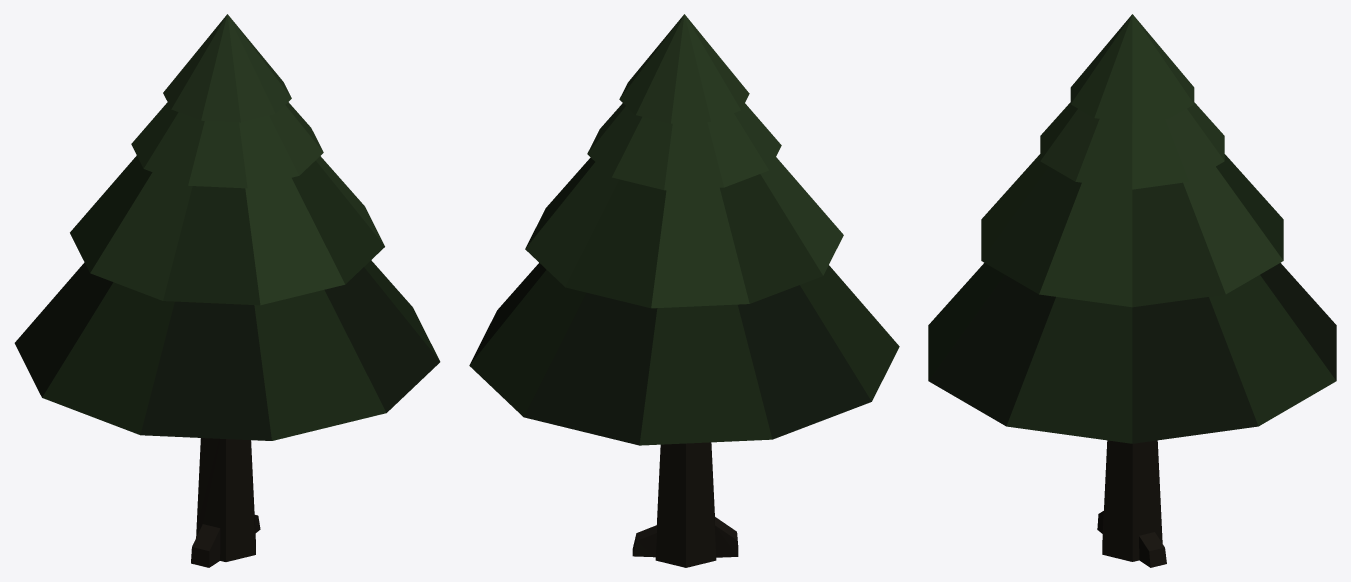
File: Tree.fbx
The picture shows the model from 3 angles, left to right: view 1: azimuth 30°, elevation 25°; view 2: azimuth 150°, elevation 25°; view 3: azimuth 270°, elevation 25°; orthographic projection.
Visible parts, largest first — view 1: Leaves01, Leaves02, Leaves03, Leaves04, TreeTrunk; view 2: Leaves01, Leaves02, Leaves03, Leaves04, TreeTrunk; view 3: Leaves01, Leaves02, Leaves03, Leaves04, TreeTrunk.
Part boxes in pixels (box(x1,y1,x2,y2)): Leaves01: box(14, 260, 440, 440); Leaves02: box(70, 155, 384, 305); Leaves03: box(131, 102, 323, 188); Leaves04: box(163, 14, 291, 122); TreeTrunk: box(191, 438, 260, 567); Leaves01: box(469, 263, 899, 445); Leaves02: box(525, 157, 843, 308); Leaves03: box(587, 103, 781, 190); Leaves04: box(619, 14, 749, 123); TreeTrunk: box(632, 442, 738, 567); Leaves01: box(928, 263, 1336, 443); Leaves02: box(981, 154, 1283, 307); Leaves03: box(1040, 102, 1224, 189); Leaves04: box(1070, 14, 1194, 123); TreeTrunk: box(1097, 440, 1166, 567).
Size of the model in its own units: 400 by 549 by 380.
